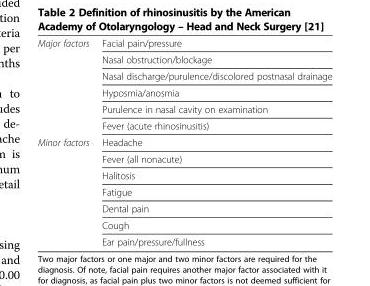table: (36, 37, 331, 247)
table column: (94, 37, 331, 247), (36, 37, 94, 247)
table row: (36, 50, 331, 67), (36, 67, 331, 84), (36, 100, 331, 117), (36, 133, 331, 150), (36, 166, 331, 183), (36, 199, 331, 216), (36, 216, 331, 233), (36, 84, 331, 100), (36, 117, 331, 133), (36, 150, 331, 166), (36, 183, 331, 199), (36, 233, 331, 247), (36, 37, 331, 50)
table spanning cell: (36, 133, 94, 247), (36, 37, 94, 133)
